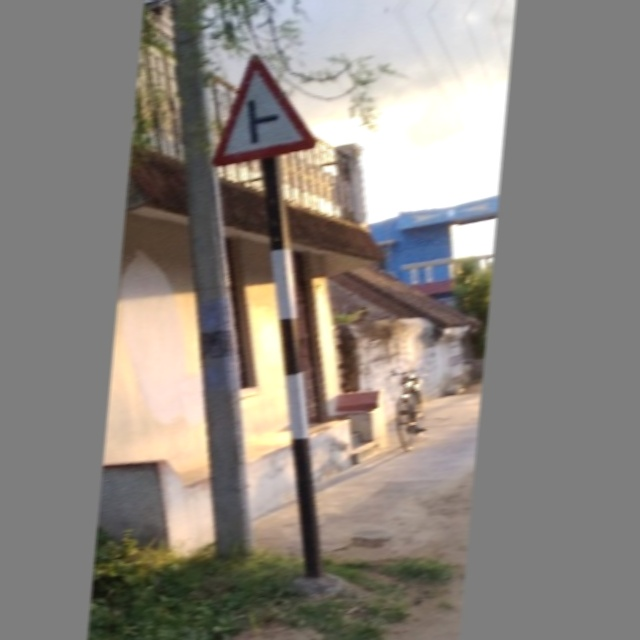Side_Road_Right: (210, 42, 327, 173)
